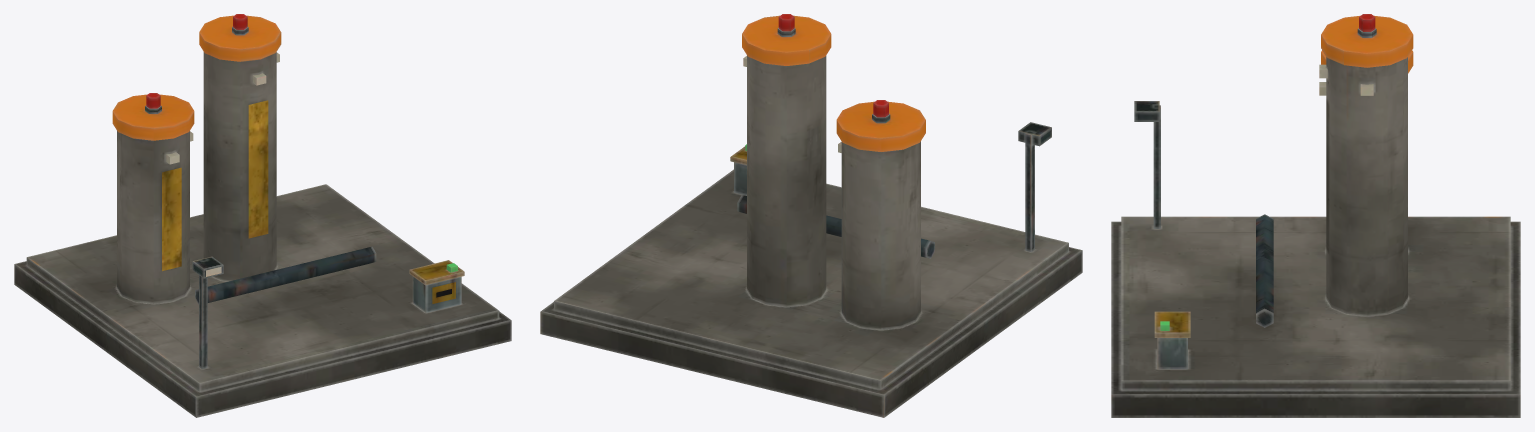
Rendered from geothermal_plant.glb.
The picture shows the model from 3 angles, left to right: view 1: azimuth 30°, elevation 25°; view 2: azimuth 150°, elevation 25°; view 3: azimuth 270°, elevation 25°; orthographic projection. The views are drawn at different scales.
Visible parts, largest first — view 1: te_geothermal_plant; view 2: te_geothermal_plant; view 3: te_geothermal_plant.
Boxes of the visible parts, left/top/right/bottom form: te_geothermal_plant: left=14, top=14, right=511, bottom=417; te_geothermal_plant: left=540, top=14, right=1082, bottom=417; te_geothermal_plant: left=1111, top=14, right=1520, bottom=417.
Size of the model in its own units: 0.8 by 0.6776 by 0.8.
1 material, 1 textured.
